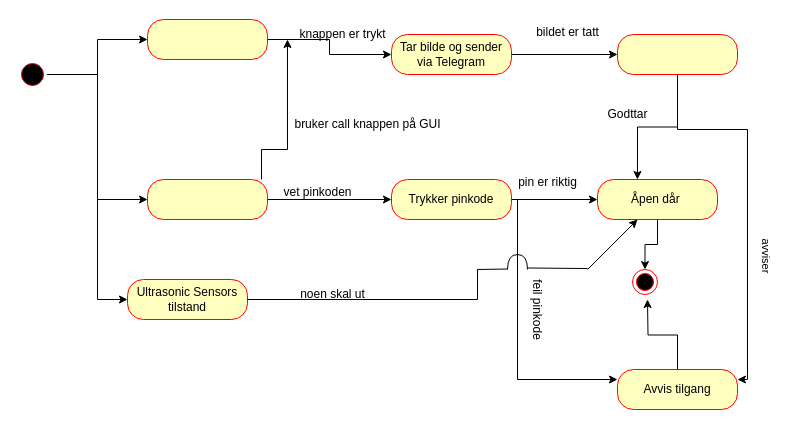
This 791x427 diagram has some shape labels left out. The centre of each missing label's shape, as x and y in pixels:
Bruker GUI: (x=207, y=199)
Eier bestemmer: (x=677, y=54)
Knappens tilstand: (x=207, y=39)
